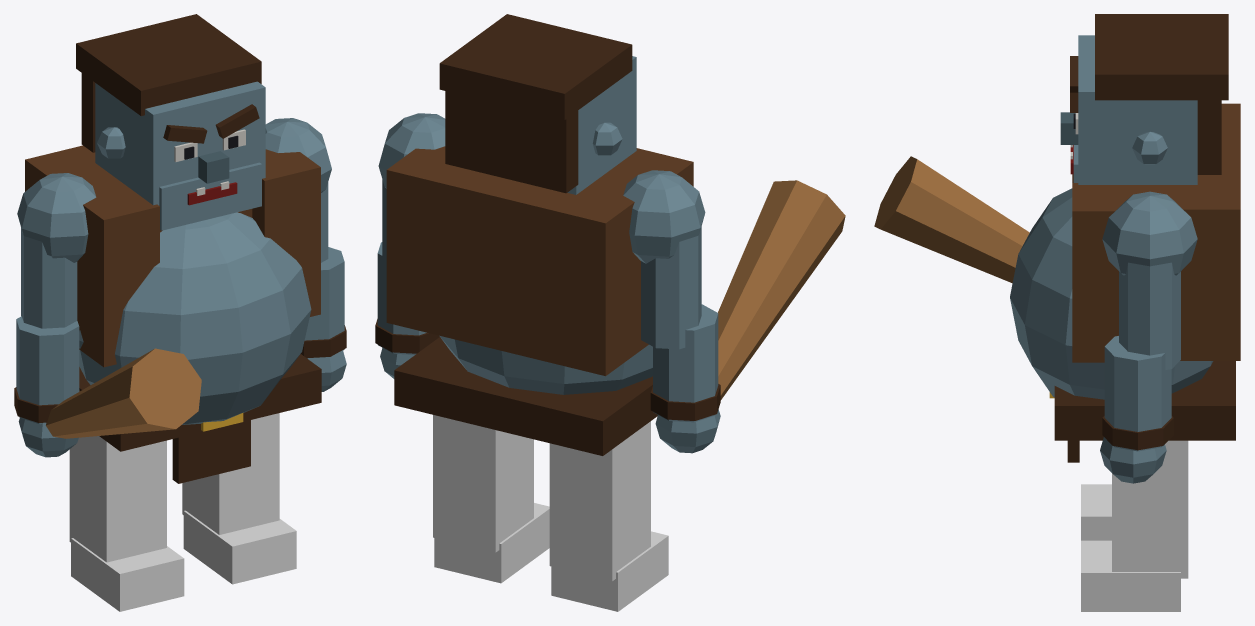
File: e_troll.fbx
The picture shows the model from 3 angles, left to right: view 1: azimuth 30°, elevation 25°; view 2: azimuth 150°, elevation 25°; view 3: azimuth 270°, elevation 25°; orthographic projection. The views are drawn at different scales.
Parts seen in each view (by area): view 1: e_troll_Body, e_troll_ArmR, e_troll_LegR, e_troll_LegL, e_troll_ArmL; view 2: e_troll_Body, e_troll_ArmR, e_troll_LegR, e_troll_LegL, e_troll_ArmL; view 3: e_troll_Body, e_troll_ArmL, e_troll_LegL, e_troll_ArmR, e_troll_LegR.
Part boxes in pixels (x1,y1,x2,y2): e_troll_Body: [17, 14, 331, 483]; e_troll_ArmR: [14, 227, 201, 457]; e_troll_LegR: [69, 436, 184, 611]; e_troll_LegL: [182, 413, 296, 584]; e_troll_ArmL: [301, 182, 346, 391]; e_troll_Body: [378, 14, 705, 455]; e_troll_ArmR: [641, 180, 845, 453]; e_troll_LegR: [549, 421, 668, 611]; e_troll_LegL: [433, 415, 549, 583]; e_troll_ArmL: [375, 180, 439, 378]; e_troll_Body: [1010, 14, 1240, 462]; e_troll_ArmL: [1100, 262, 1180, 483]; e_troll_LegL: [1081, 440, 1188, 611]; e_troll_ArmR: [874, 156, 1029, 283]; e_troll_LegR: [1081, 484, 1111, 540].
Size of the model in its own units: 1.65 by 2.42 by 1.54.
